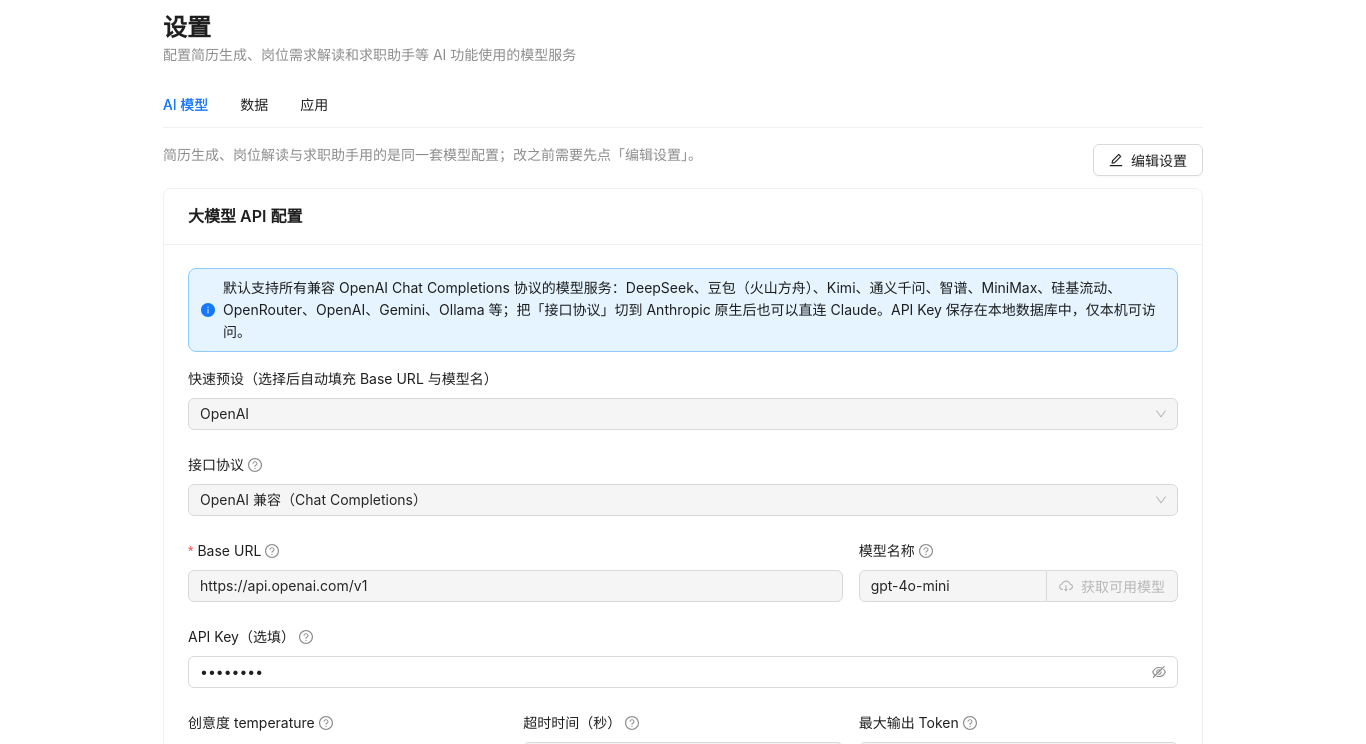
Scenario: SettingsPage parameter help › shows help for 超时时间（秒） on hover
Hover over the picture named "question-circle" next to "超时时间（秒）" at (632, 723), box x1=625 y1=716 x2=639 y2=730
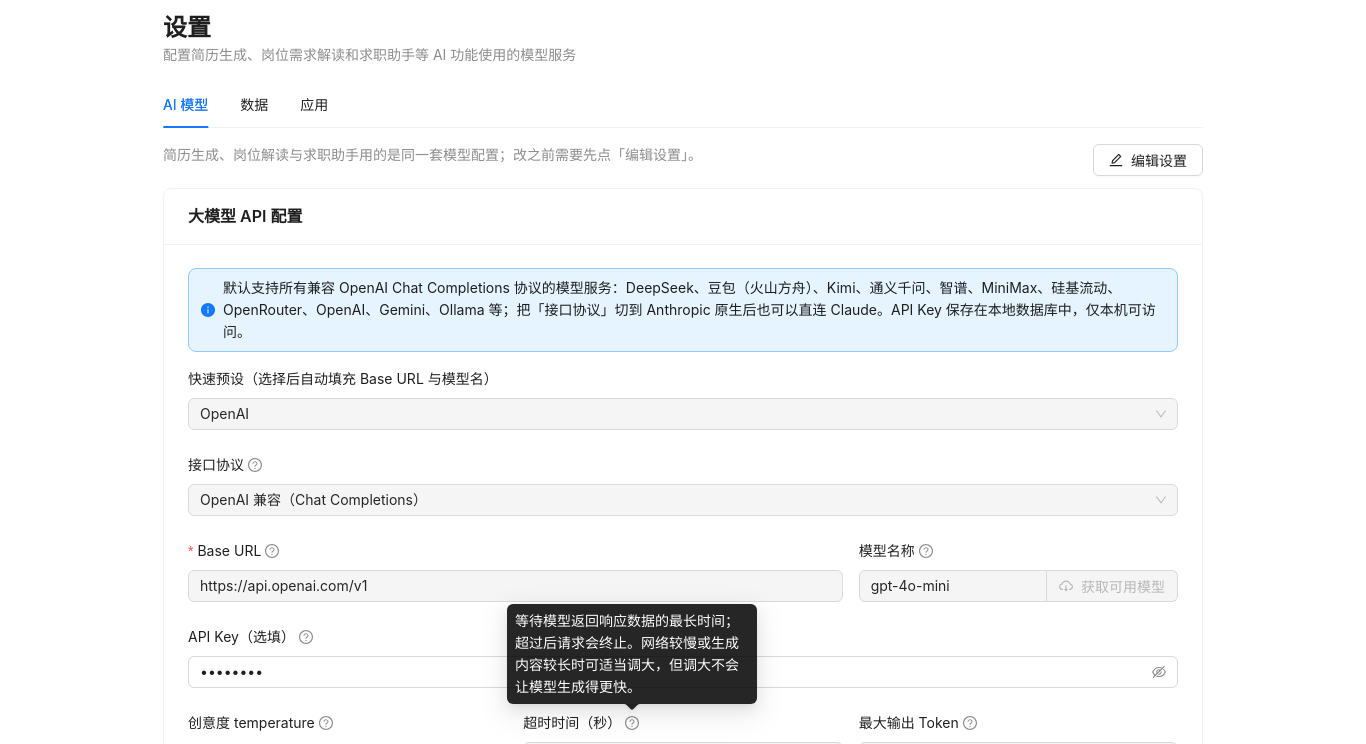
Check: the tooltip reads "等待模型返回响应数据的最长时间；超过后请求会终止。网络较慢或生成内容较长时可适当调大，但调大不会让模型生成得更快。", box x1=515 y1=612 x2=739 y2=695
